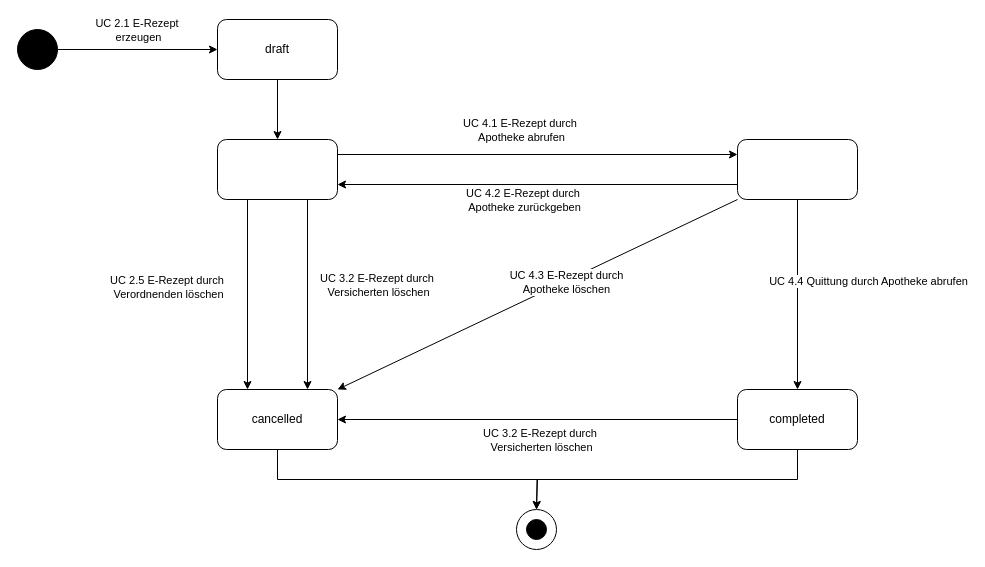
The diagram is 985 pixels wide and 567 high, and some of its shapes have lost their labels. Each missing label, with the box of its shape:
in-progress: (736, 138, 858, 200)
ready: (216, 138, 338, 200)
